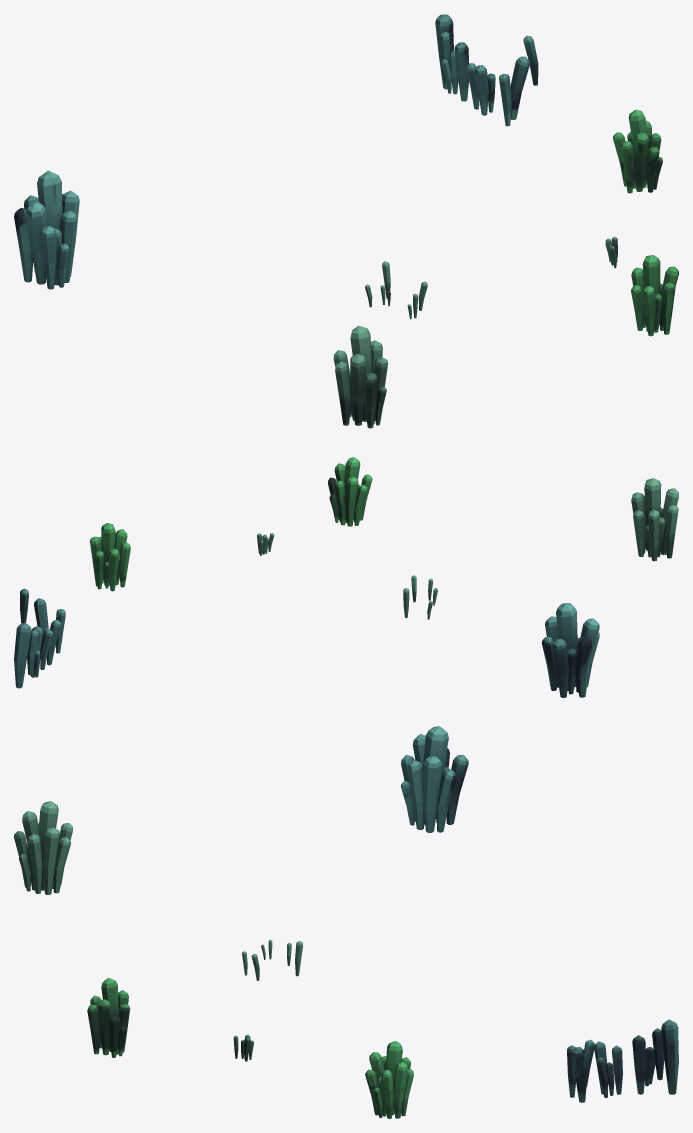
Rendered from Plant_02.FBX.
3 renders of one model, top to bottom at view 1: azimuth 30°, elevation 25°; view 2: azimuth 150°, elevation 25°; view 3: azimuth 270°, elevation 25°, orthographic. The views are drawn at different scales.
Parts seen in each view (by area): view 1: Plant_02; view 2: Plant_02; view 3: Plant_02.
Boxes of the visible parts, box(x1,y1,x2,y2) form: Plant_02: box(14, 14, 678, 428); Plant_02: box(14, 457, 678, 697); Plant_02: box(14, 726, 678, 1118).
Bounding box in the file's own units: 19.08 × 4.06 × 19.02.
